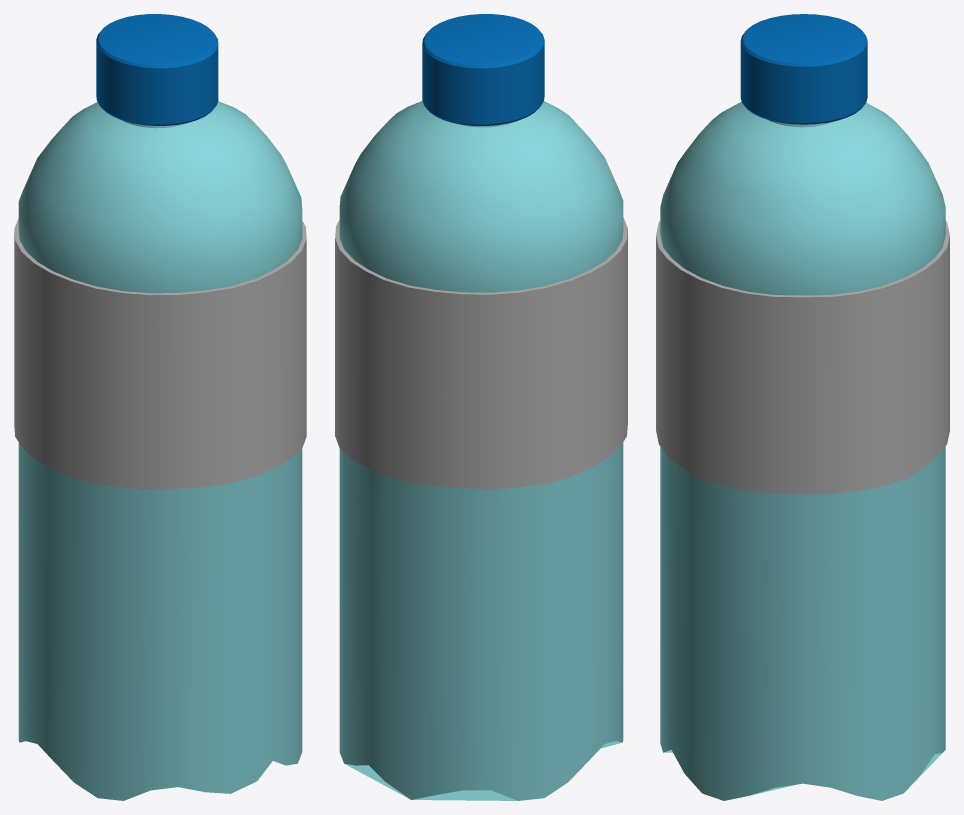
The model's file is water bottle.fbx.
3 renders of one model, left to right at view 1: azimuth 30°, elevation 25°; view 2: azimuth 150°, elevation 25°; view 3: azimuth 270°, elevation 25°, orthographic.
Parts seen in each view (by area): view 1: Cylinder; view 2: Cylinder; view 3: Cylinder.
Boxes of the visible parts, x1,y1,x2,y2 form: Cylinder: (14,14,306,800); Cylinder: (335,14,627,800); Cylinder: (656,14,949,800).
Size of the model in its own units: 156 by 417 by 156.
